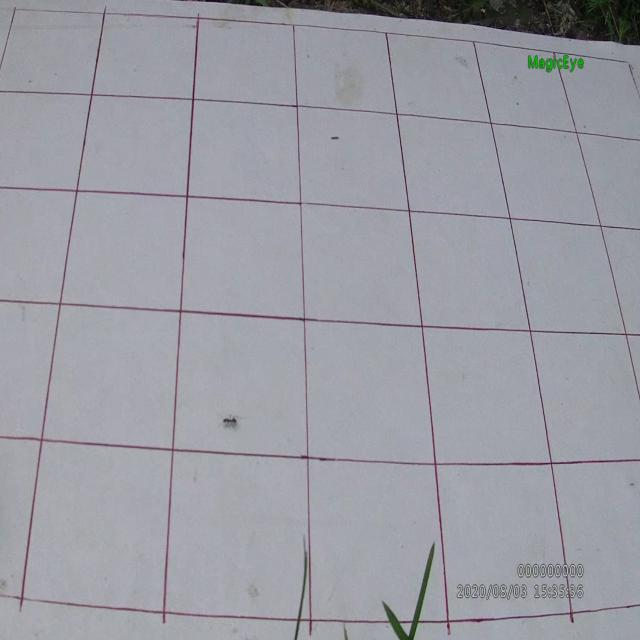Ant: (218, 413, 244, 430)
